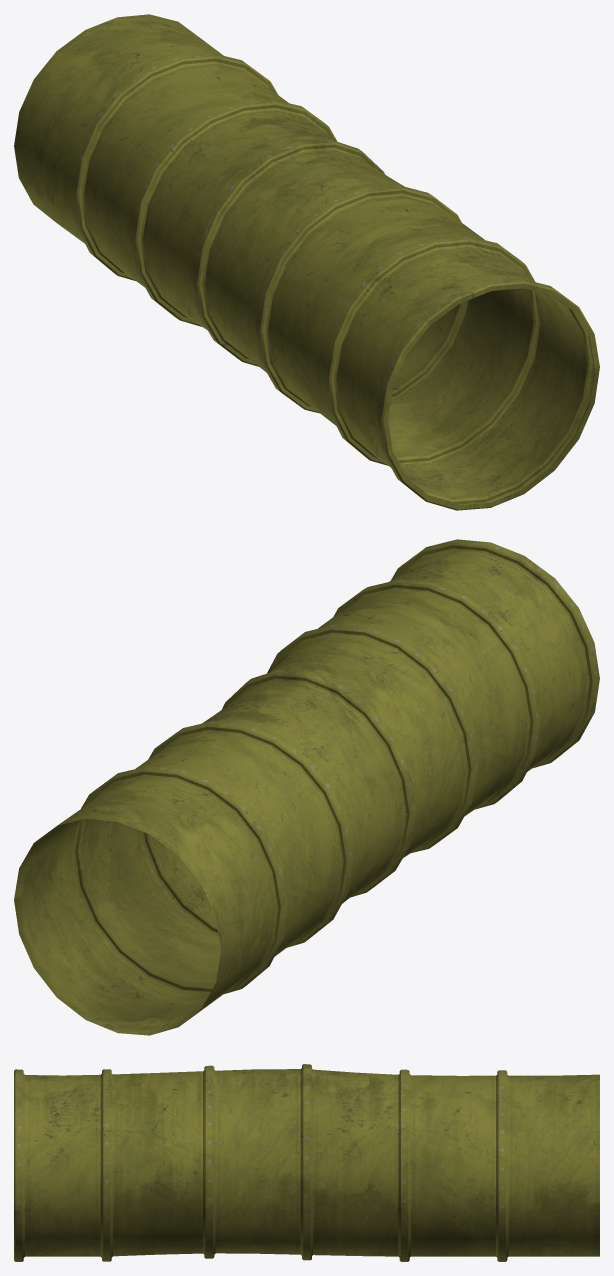
The model's file is SM_Heat_Vent.glb.
The picture shows the model from 3 angles, top to bottom: view 1: azimuth 30°, elevation 25°; view 2: azimuth 150°, elevation 25°; view 3: azimuth 270°, elevation 25°; orthographic projection. The views are drawn at different scales.
Visible parts, largest first — view 1: SM_Heat_Vent; view 2: SM_Heat_Vent; view 3: SM_Heat_Vent.
Boxes of the visible parts, <box> form: SM_Heat_Vent: <box>14,14,599,510</box>; SM_Heat_Vent: <box>14,539,599,1035</box>; SM_Heat_Vent: <box>14,1064,599,1261</box>.
Size of the model in its own units: 0.1874 by 0.1863 by 0.55.
Materials: 1 (1 with a texture image).
